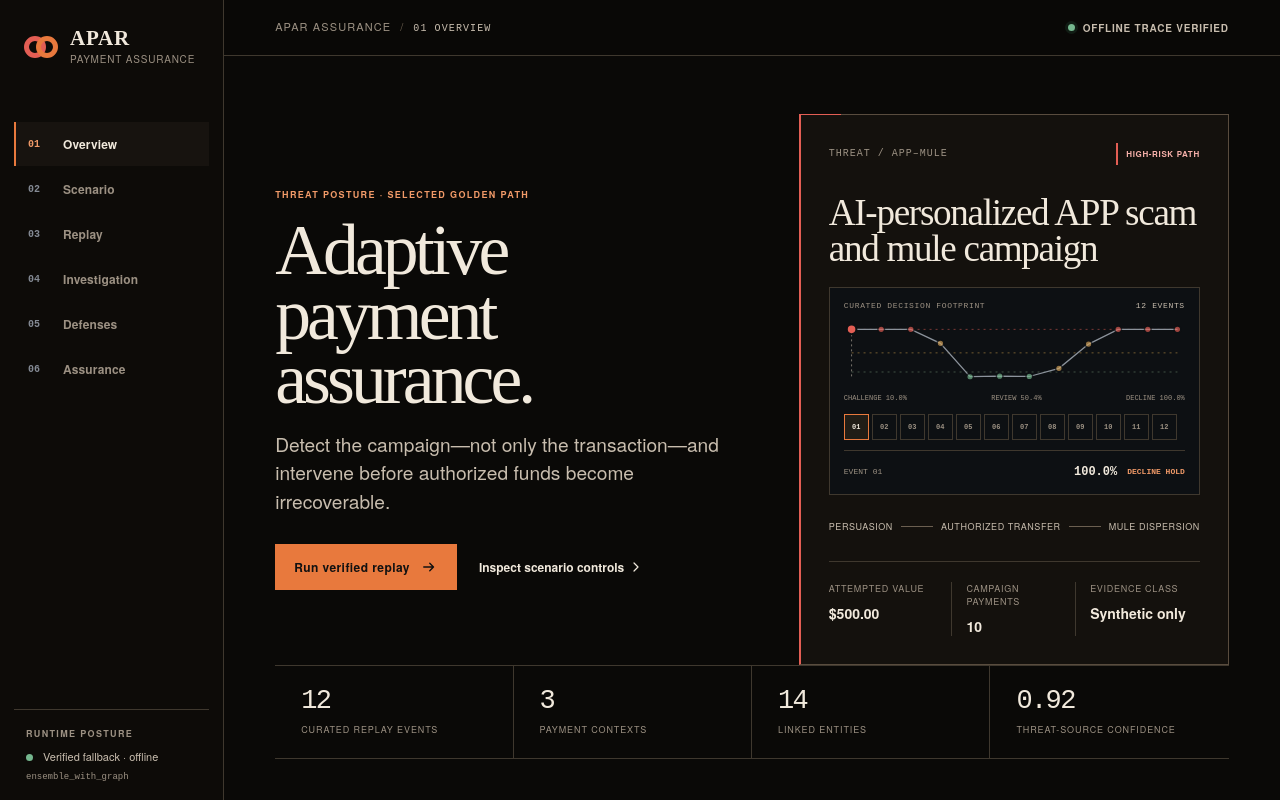
native route boundary › focuses a model-only overview trace event
The width and height of the screenshot is (1280, 800).
Click the button named "event 4, 70.5%, review hold" at [940, 427], box [928,414,953,440]
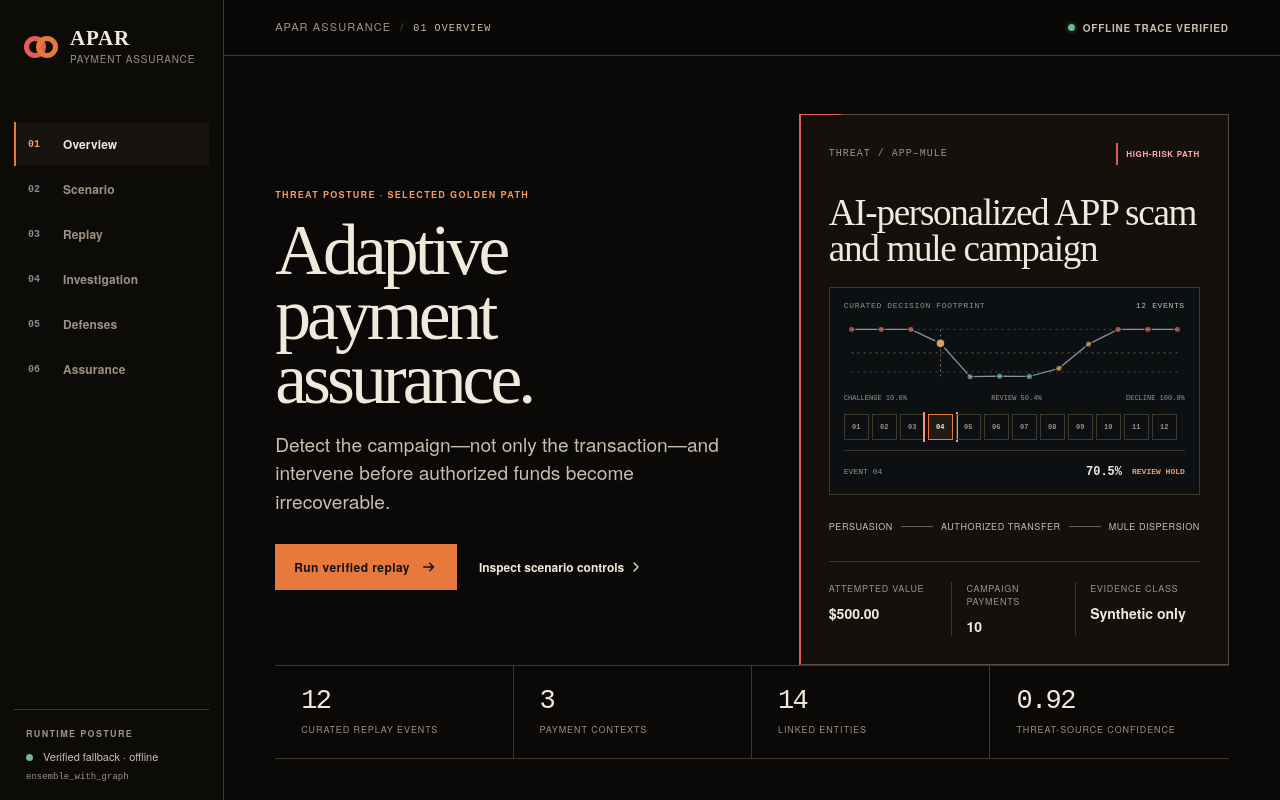
expect the text "Event 04" is shown: met, box [844,467,882,476]
expect the text "70.5%" is shown: met, box [1086,465,1122,479]
expect the text "Review Hold" is shown: met, box [1132,467,1185,476]
